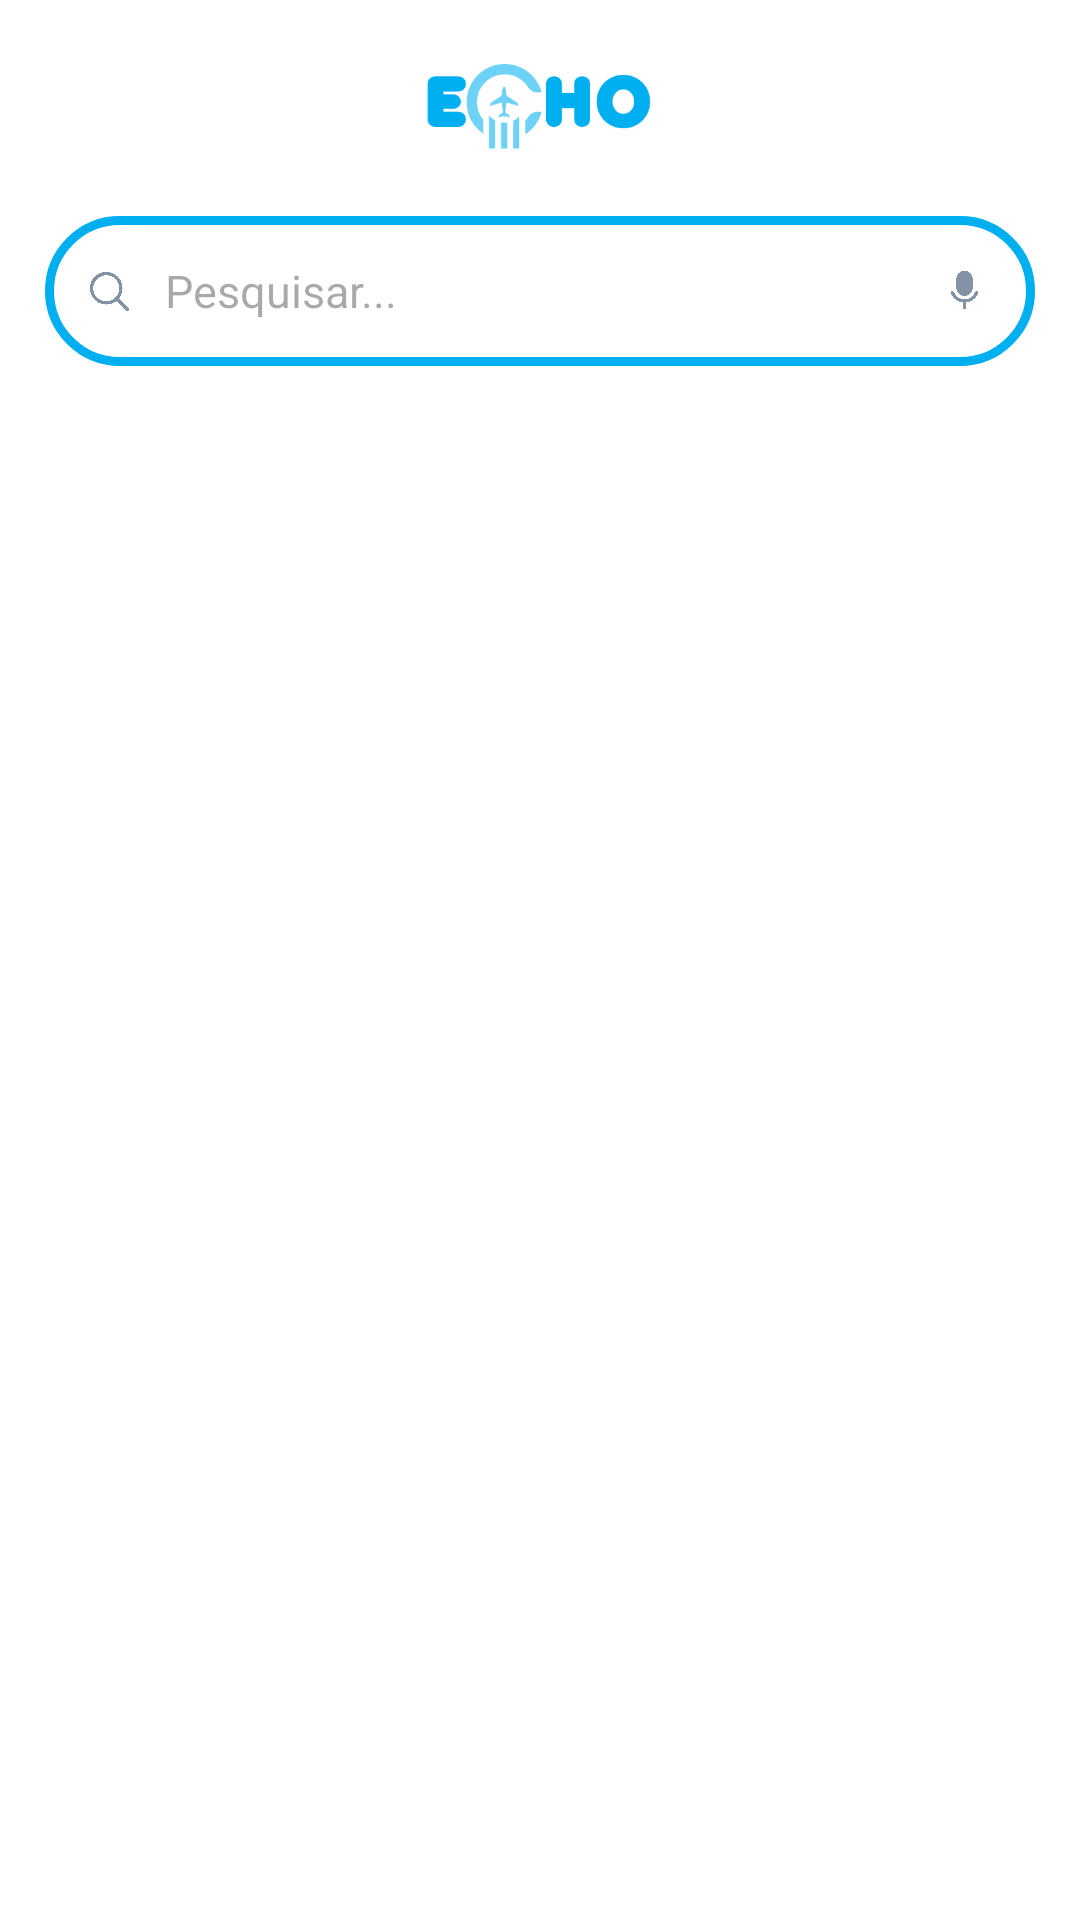

Screen size 1080px×1920px. Icon name, then its center in pixels as [x,y]:
mic: [964,290]
procurar: [109,291]
